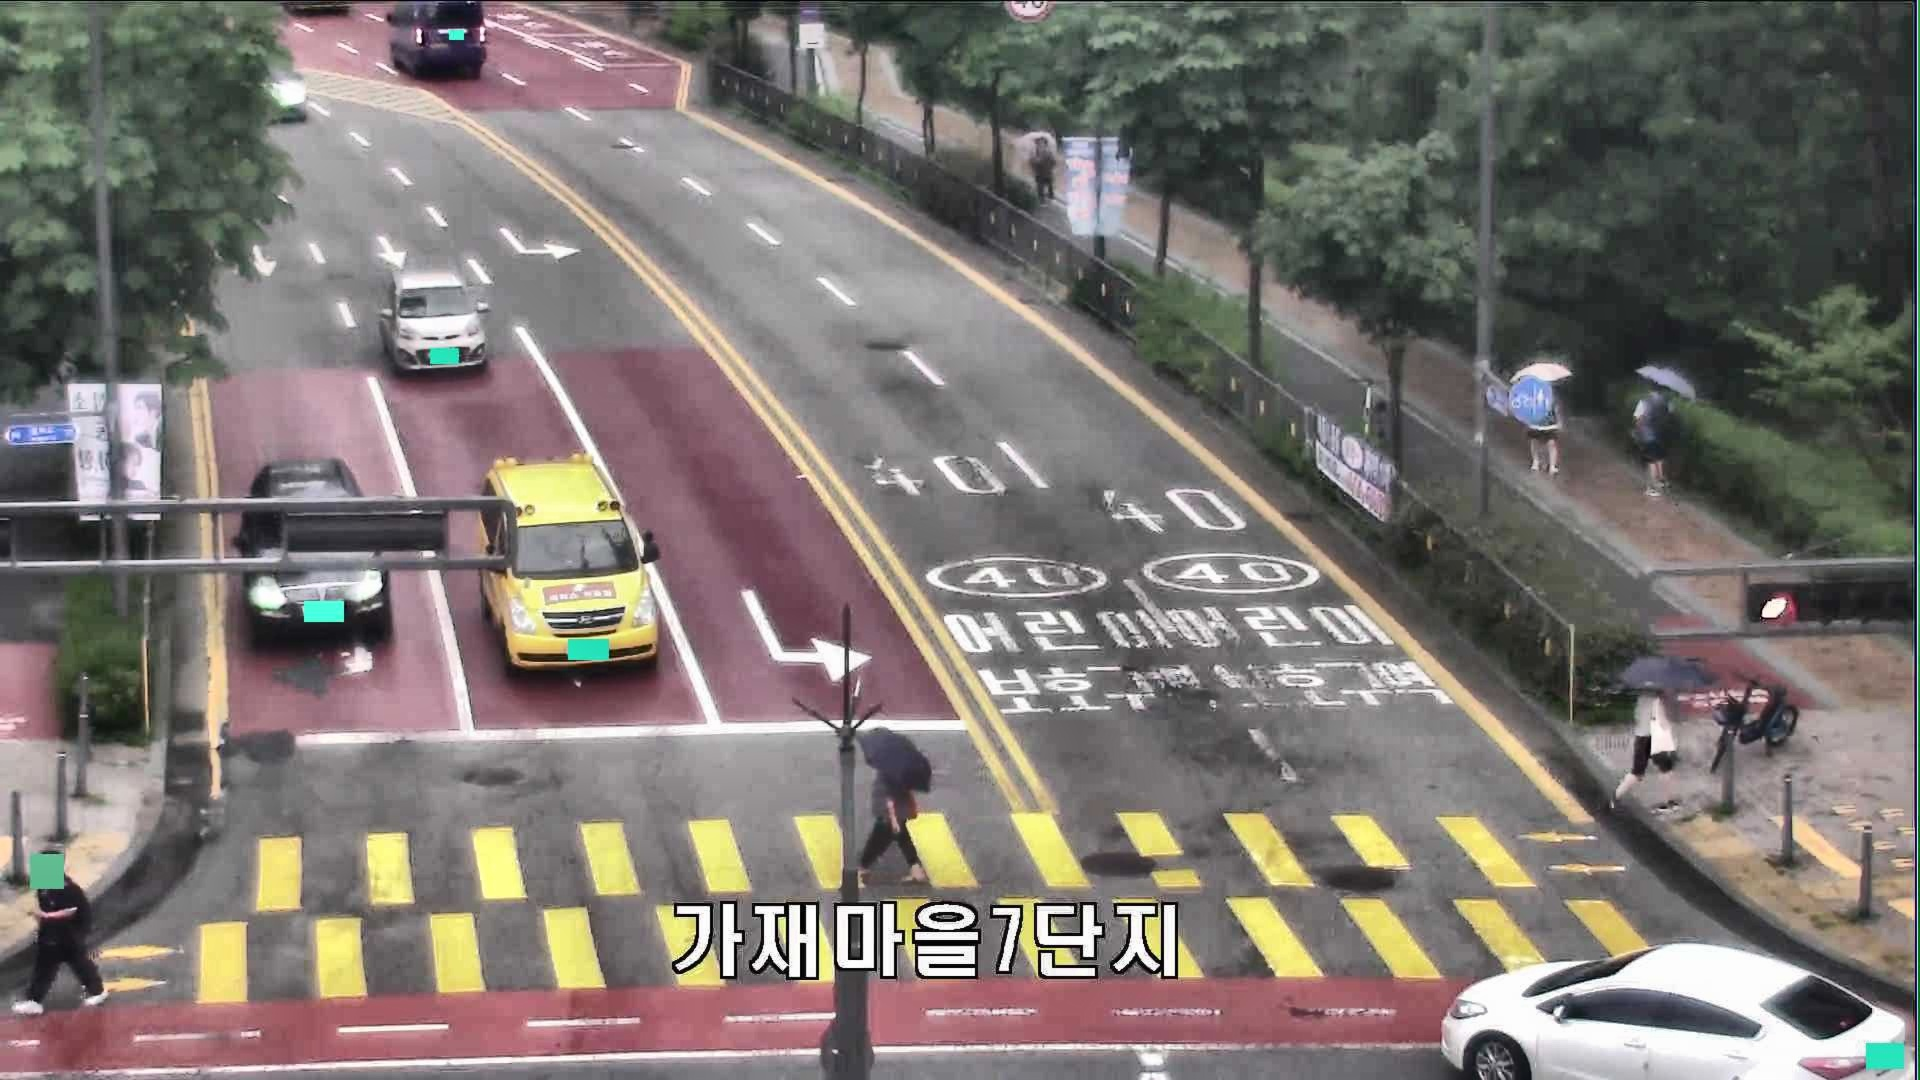crosswalk: (11, 849, 112, 1018)
um_crosswalk: (852, 727, 934, 885)
um_sidewalk: (1611, 651, 1716, 824), (1629, 367, 1695, 495), (1511, 363, 1573, 472), (1013, 128, 1062, 208)
